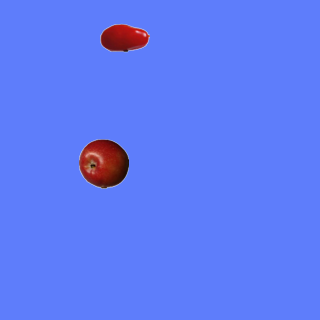Apple Braeburn: (78, 138, 128, 188)
Tomato 2: (99, 12, 149, 62)
